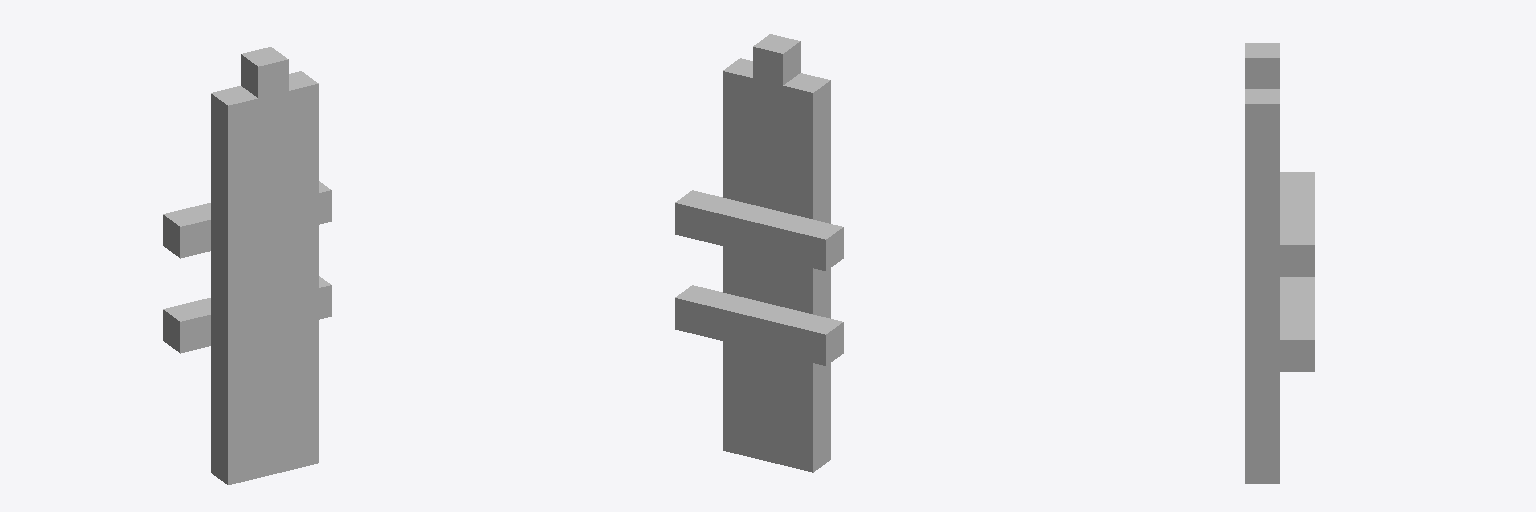
File: Fence.obj
3 renders of one model, left to right at view 1: azimuth 30°, elevation 25°; view 2: azimuth 150°, elevation 25°; view 3: azimuth 270°, elevation 25°, orthographic.
Size of the model in its own units: 5 by 13 by 2.